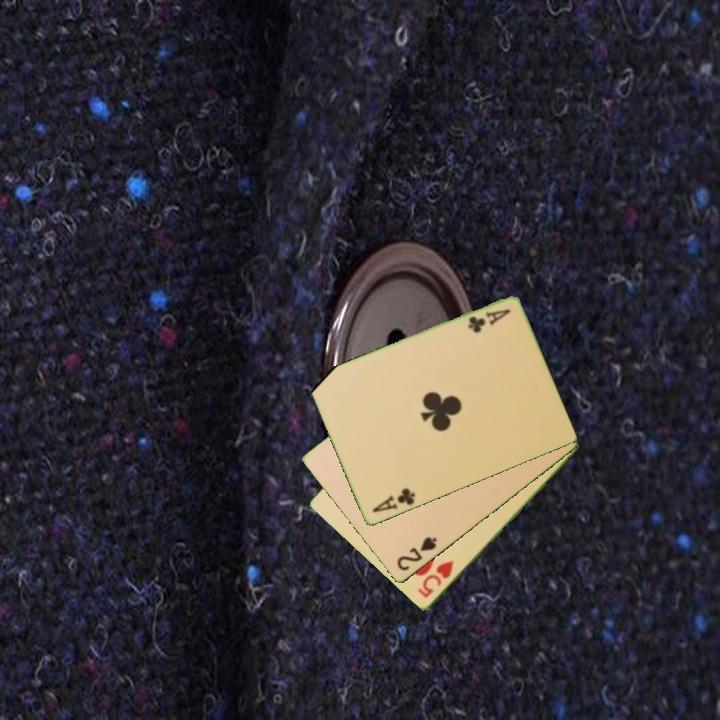2s: (393, 533, 440, 574)
5h: (414, 557, 456, 601)
Ac: (368, 485, 418, 516), (464, 306, 513, 336)
